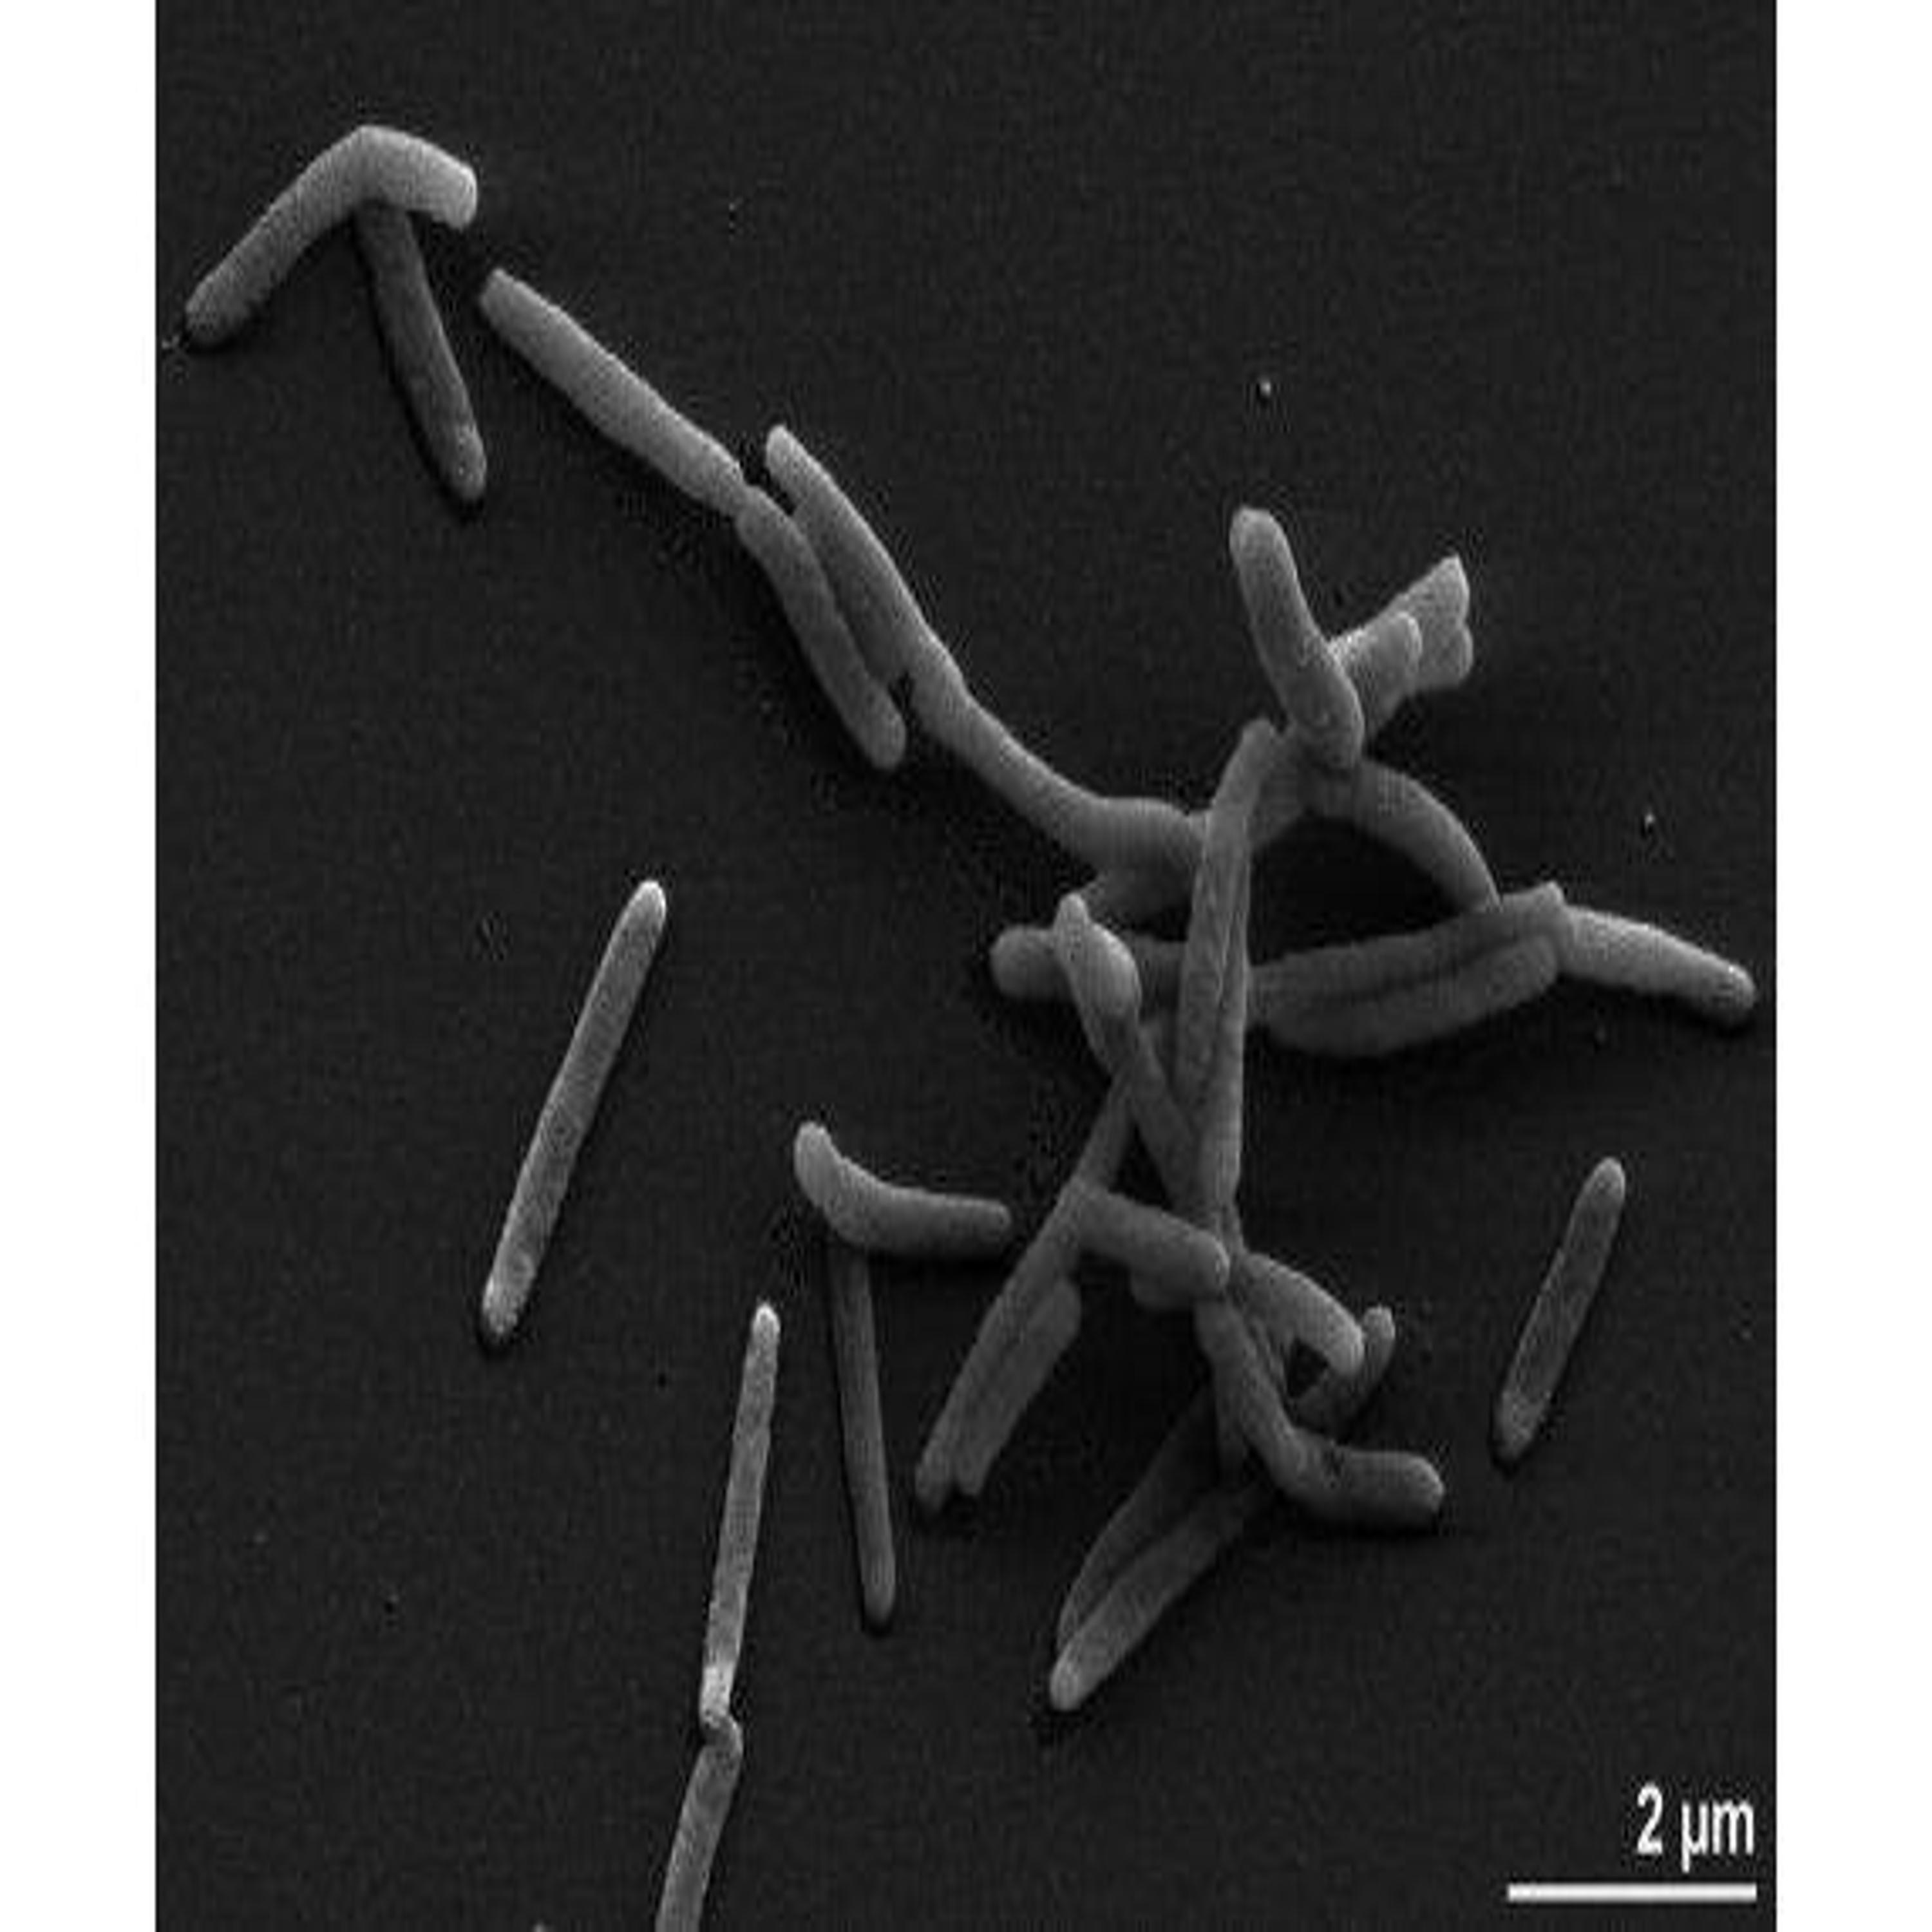Vibrio_cholerae5: (485, 879, 672, 1343), (1497, 1157, 1629, 1454), (793, 1115, 1012, 1261)
